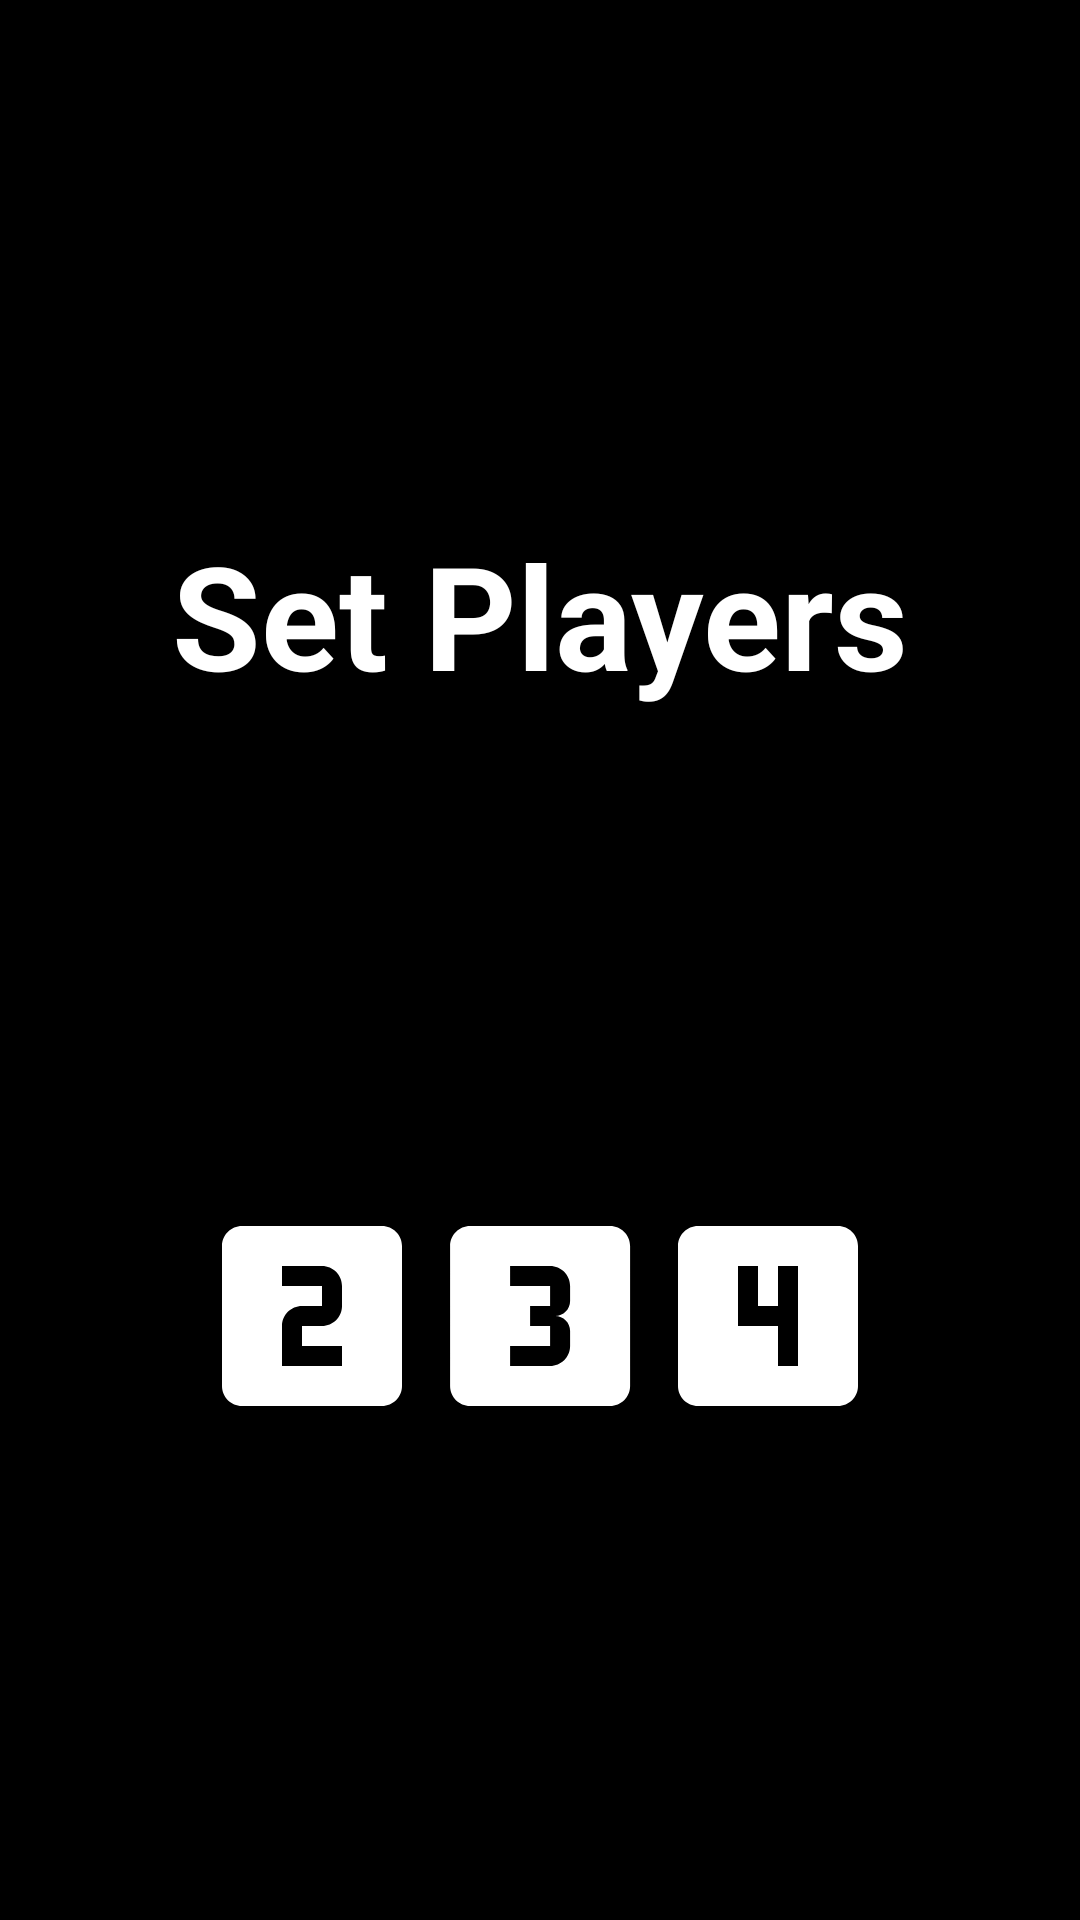

Locate icon controls on the screen. Image size 1080x1920, boxes as (x1, y1, x2, y2).
2 player button: (222, 1226, 402, 1406)
3 player button: (450, 1226, 631, 1406)
4 player button: (678, 1226, 858, 1406)
